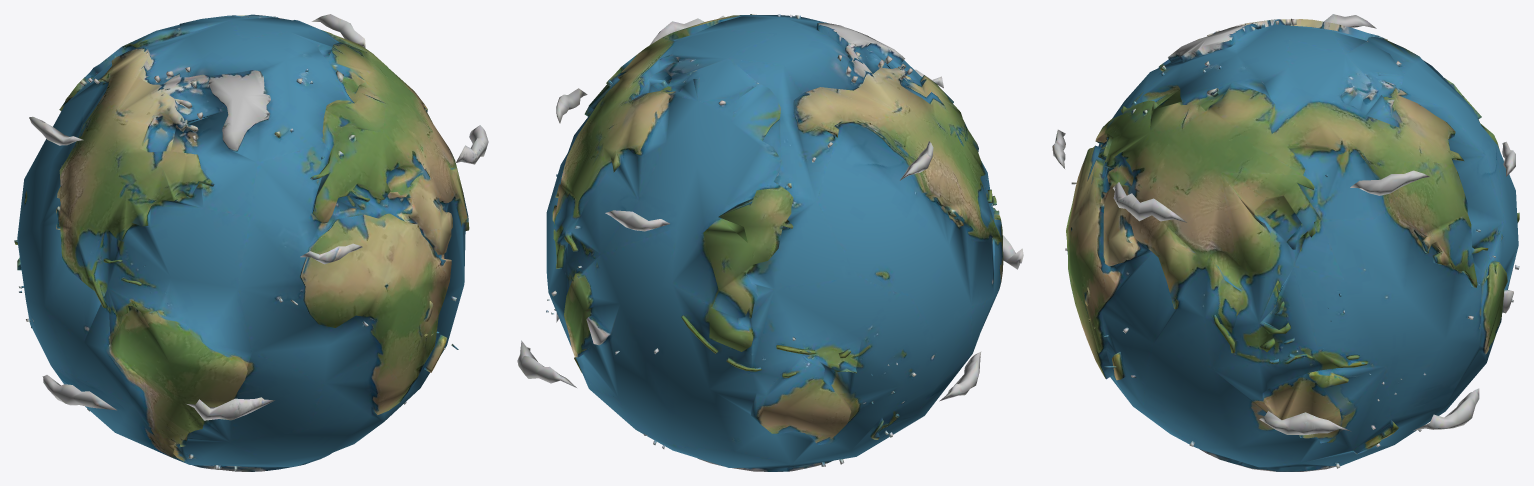
3 views of the same model, side by side, from view 1: azimuth 30°, elevation 25°; view 2: azimuth 150°, elevation 25°; view 3: azimuth 270°, elevation 25° (orthographic). The views are drawn at different scales.
Visible parts, largest first — view 1: tripo_node_7f869982-e1ad-4aa5-8f7a-d2c354d2a7dd; view 2: tripo_node_7f869982-e1ad-4aa5-8f7a-d2c354d2a7dd; view 3: tripo_node_7f869982-e1ad-4aa5-8f7a-d2c354d2a7dd.
Part boxes in pixels (x1,y1,x2,y2): tripo_node_7f869982-e1ad-4aa5-8f7a-d2c354d2a7dd: (14, 14, 488, 471); tripo_node_7f869982-e1ad-4aa5-8f7a-d2c354d2a7dd: (517, 14, 1023, 471); tripo_node_7f869982-e1ad-4aa5-8f7a-d2c354d2a7dd: (1052, 14, 1519, 471).
Bounding box in the file's own units: 0.9628 × 0.9628 × 0.998.
Materials: 1 (1 with a texture image).
